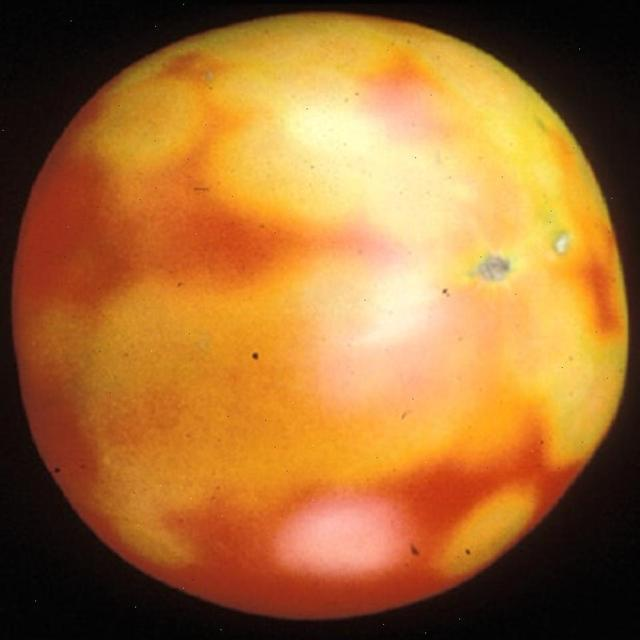Spotted wilt Virus Fruit: (128, 211, 468, 580)
